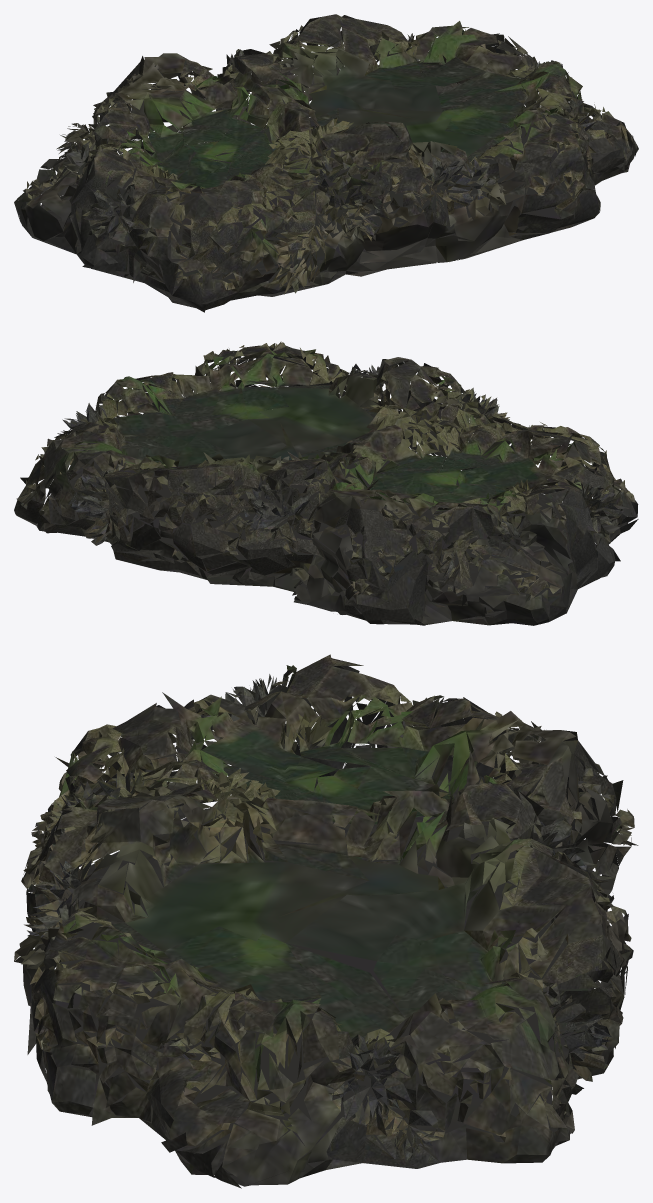
Rendered from rock_pools.glb.
3 views of the same model, one above another, from view 1: azimuth 30°, elevation 25°; view 2: azimuth 150°, elevation 25°; view 3: azimuth 270°, elevation 25° (orthographic). The views are drawn at different scales.
Parts seen in each view (by area): view 1: Mesh_0; view 2: Mesh_0; view 3: Mesh_0.
Part boxes in pixels (x1,y1,x2,y2): Mesh_0: (14, 14, 638, 312); Mesh_0: (14, 341, 638, 625); Mesh_0: (14, 654, 638, 1188).
Bounding box in the file's own units: 3.2 × 0.6766 × 2.05.
Materials: 1 (1 with a texture image).
